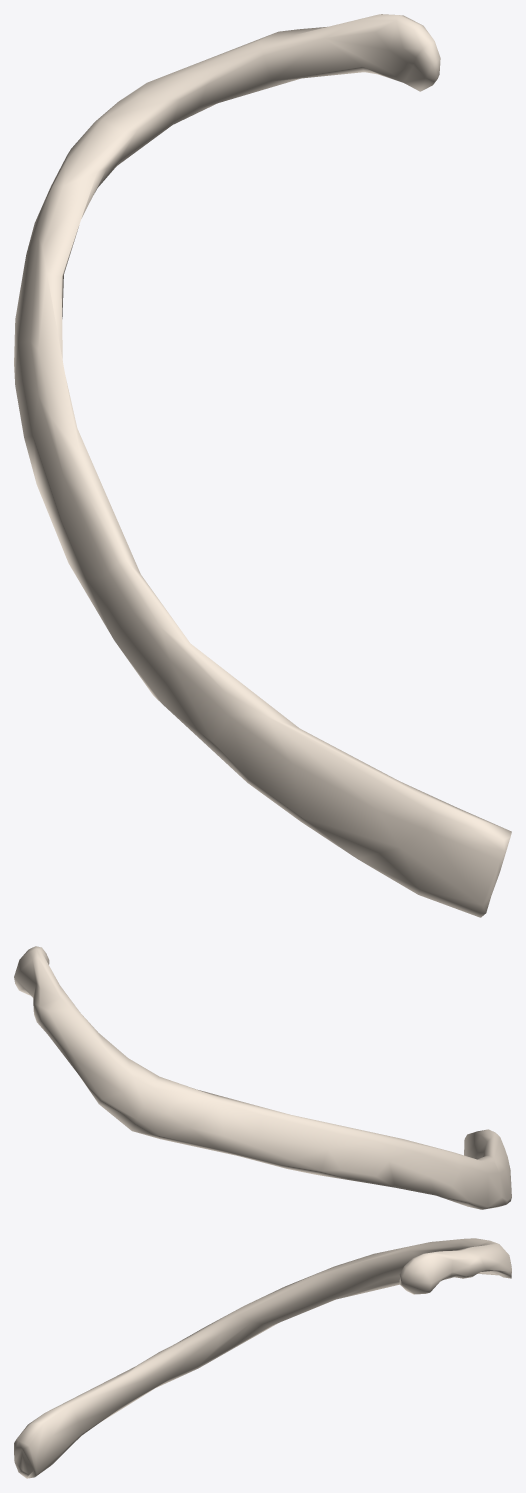
Rendered from right_rib_6.glb.
3 views of the same model, one above another, from view 1: azimuth 30°, elevation 25°; view 2: azimuth 150°, elevation 25°; view 3: azimuth 270°, elevation 25° (orthographic). The views are drawn at different scales.
Parts seen in each view (by area): view 1: Rib (6th).r; view 2: Rib (6th).r; view 3: Rib (6th).r.
Boxes of the visible parts, x1,y1,x2,y2 form: Rib (6th).r: (14, 14, 511, 917); Rib (6th).r: (14, 946, 511, 1209); Rib (6th).r: (14, 1238, 511, 1478).
Size of the model in its own units: 0.1191 by 0.1299 by 0.1951.
